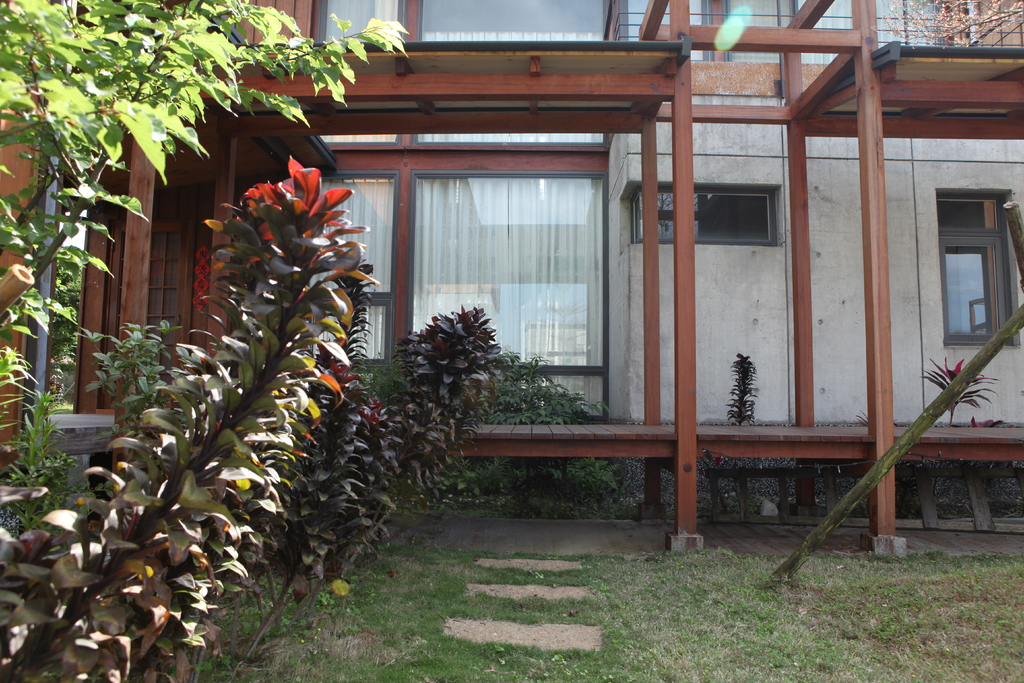Tree: (0, 0, 413, 541), (878, 0, 1023, 51)
